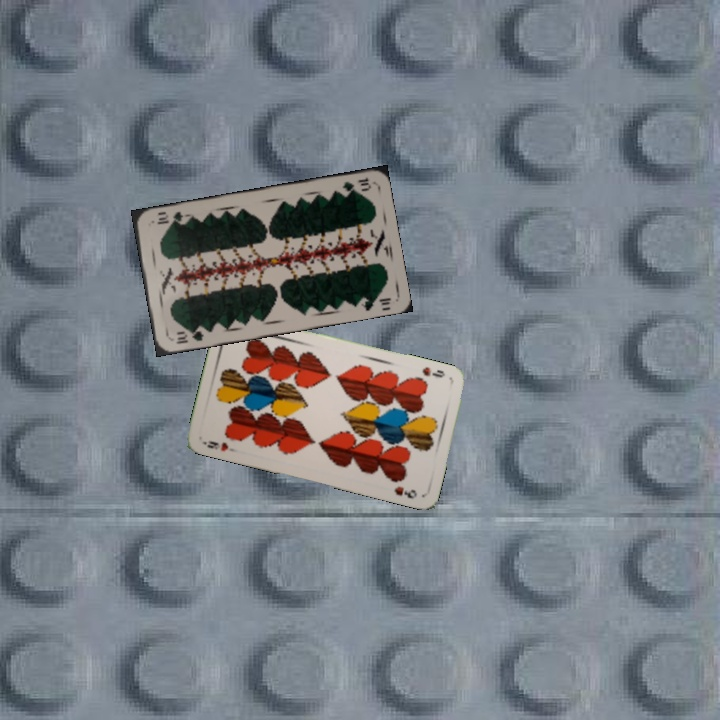G10: (172, 323, 208, 346), (338, 174, 374, 195)
H9: (199, 437, 240, 455), (418, 363, 448, 380)
